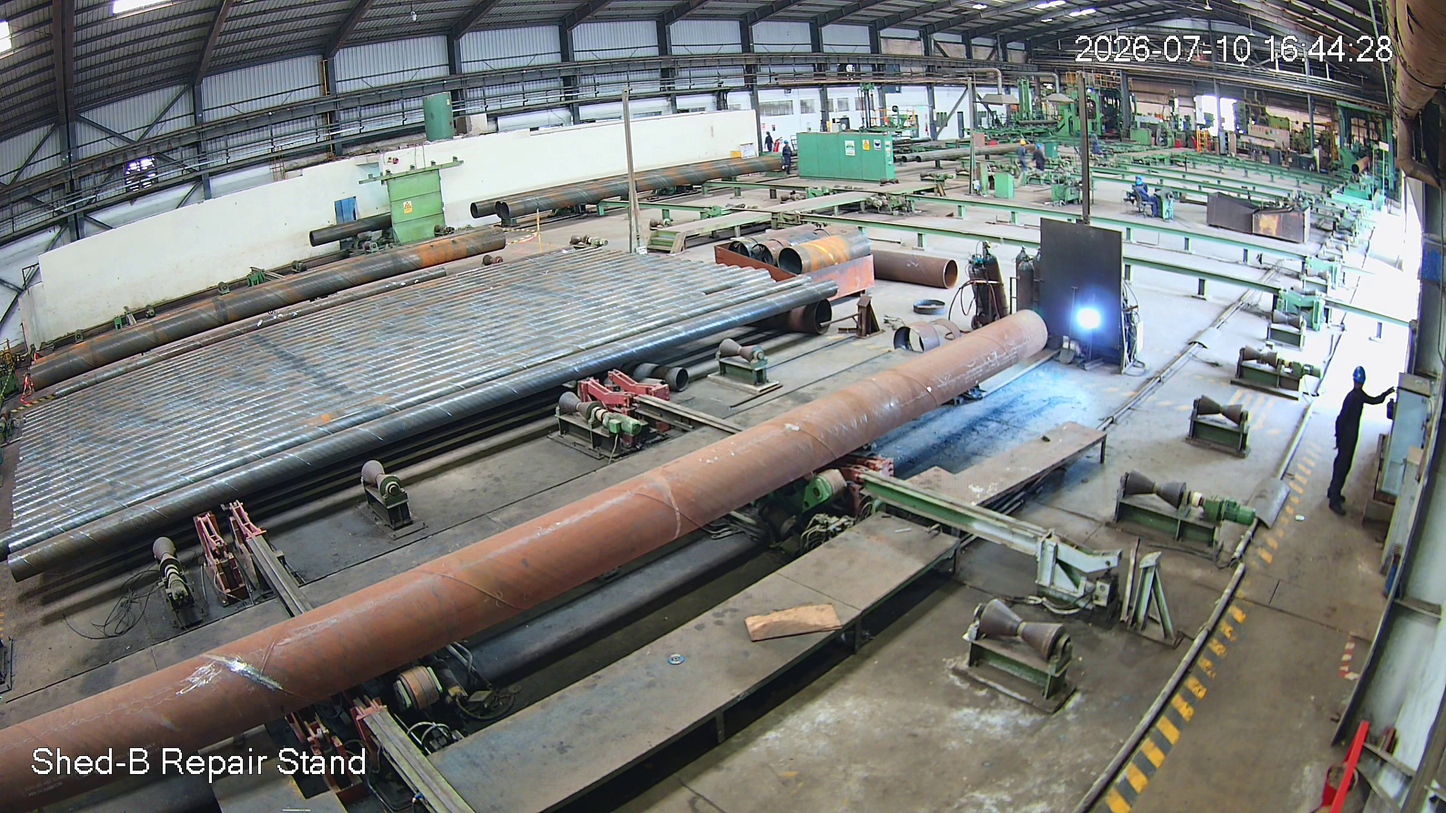Helmet: (1346, 359, 1370, 392)
Person: (1321, 363, 1377, 527)
